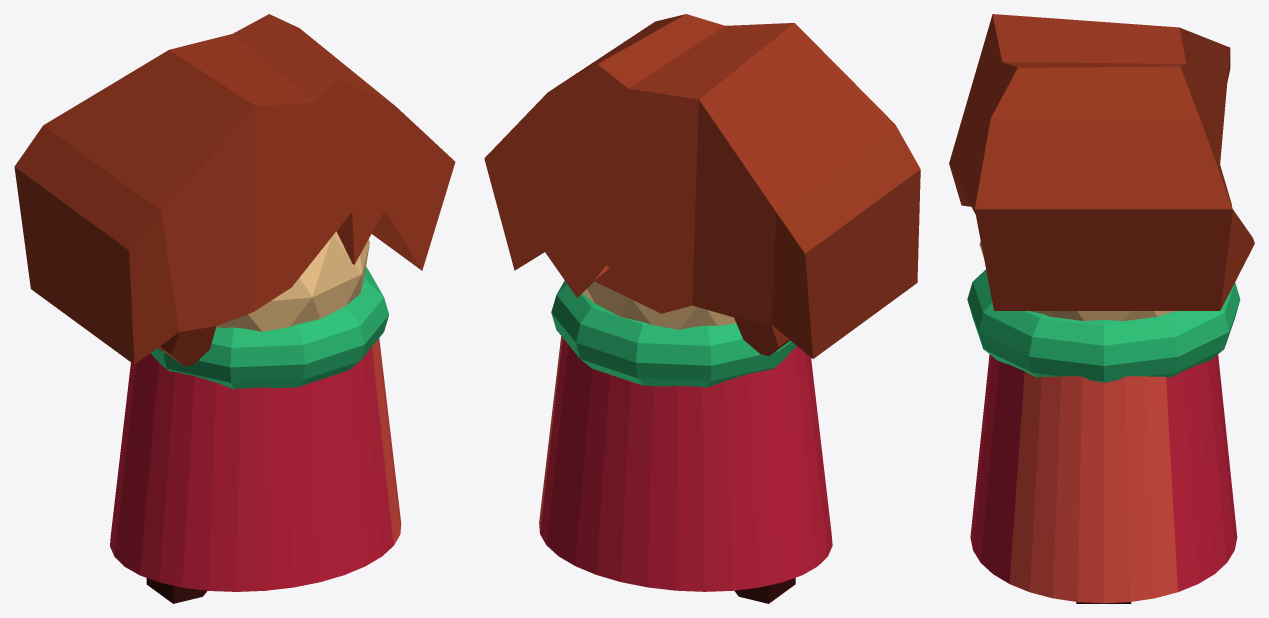
The model's file is Player.fbx.
The picture shows the model from 3 angles, left to right: view 1: azimuth 30°, elevation 25°; view 2: azimuth 150°, elevation 25°; view 3: azimuth 270°, elevation 25°; orthographic projection. The views are drawn at different scales.
Visible parts, largest first — view 1: Cylinder; view 2: Cylinder; view 3: Cylinder.
Part boxes in pixels (x1,y1,x2,y2): Cylinder: (14,14,455,603); Cylinder: (484,14,920,603); Cylinder: (949,14,1254,603).
Bounding box in the file's own units: 304 × 473 × 246.
Materials: 1 (1 with a texture image).
